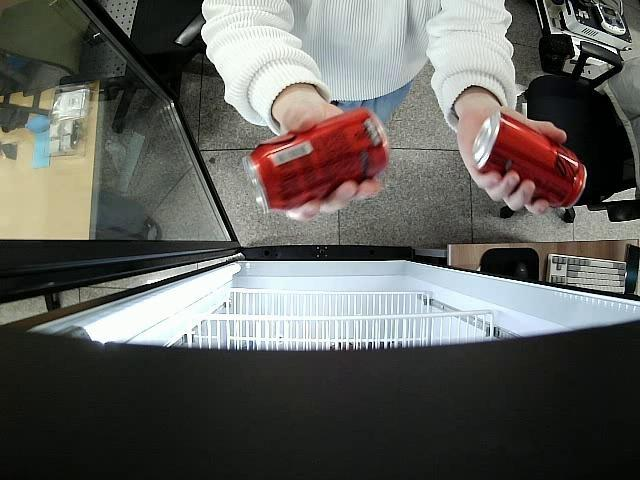11_cocaColaZero: (241, 108, 388, 212), (471, 108, 588, 210)
